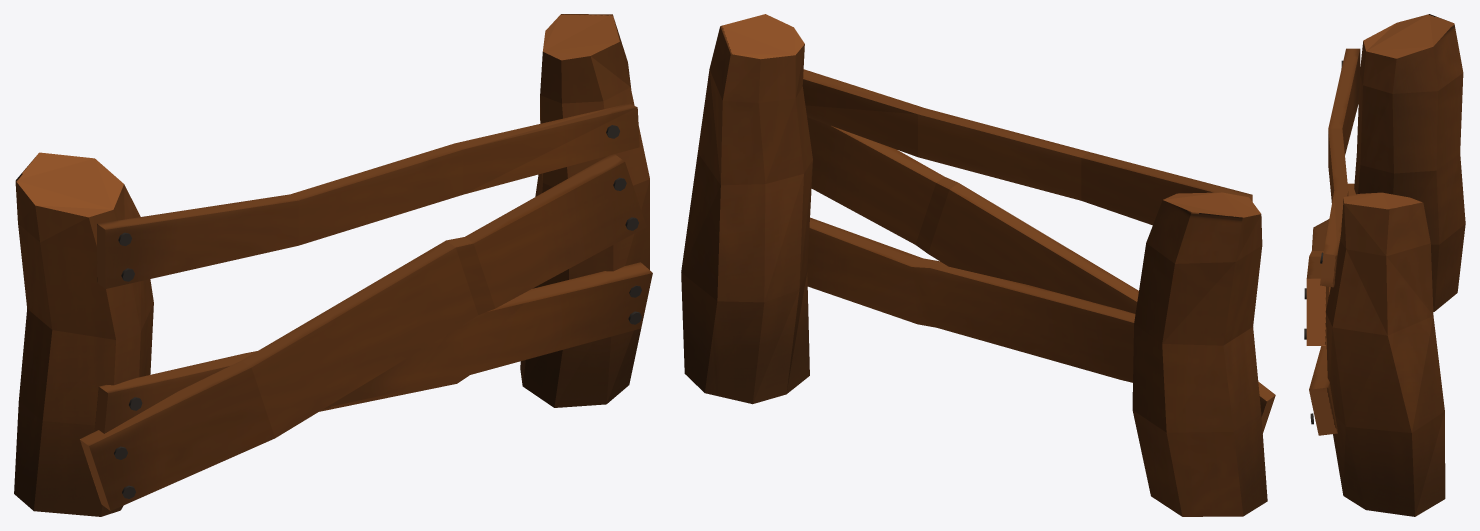
File: wooden fence_01.FBX
The picture shows the model from 3 angles, left to right: view 1: azimuth 30°, elevation 25°; view 2: azimuth 150°, elevation 25°; view 3: azimuth 270°, elevation 25°; orthographic projection. The views are drawn at different scales.
Visible parts, largest first — view 1: fence_03; view 2: fence_03; view 3: fence_03.
Boxes of the visible parts, bbox=[...] form: fence_03: bbox=[14, 14, 652, 516]; fence_03: bbox=[681, 14, 1275, 516]; fence_03: bbox=[1304, 14, 1465, 516].
Bounding box in the file's own units: 36.93 × 21.12 × 10.28.
1 material, 1 textured.
